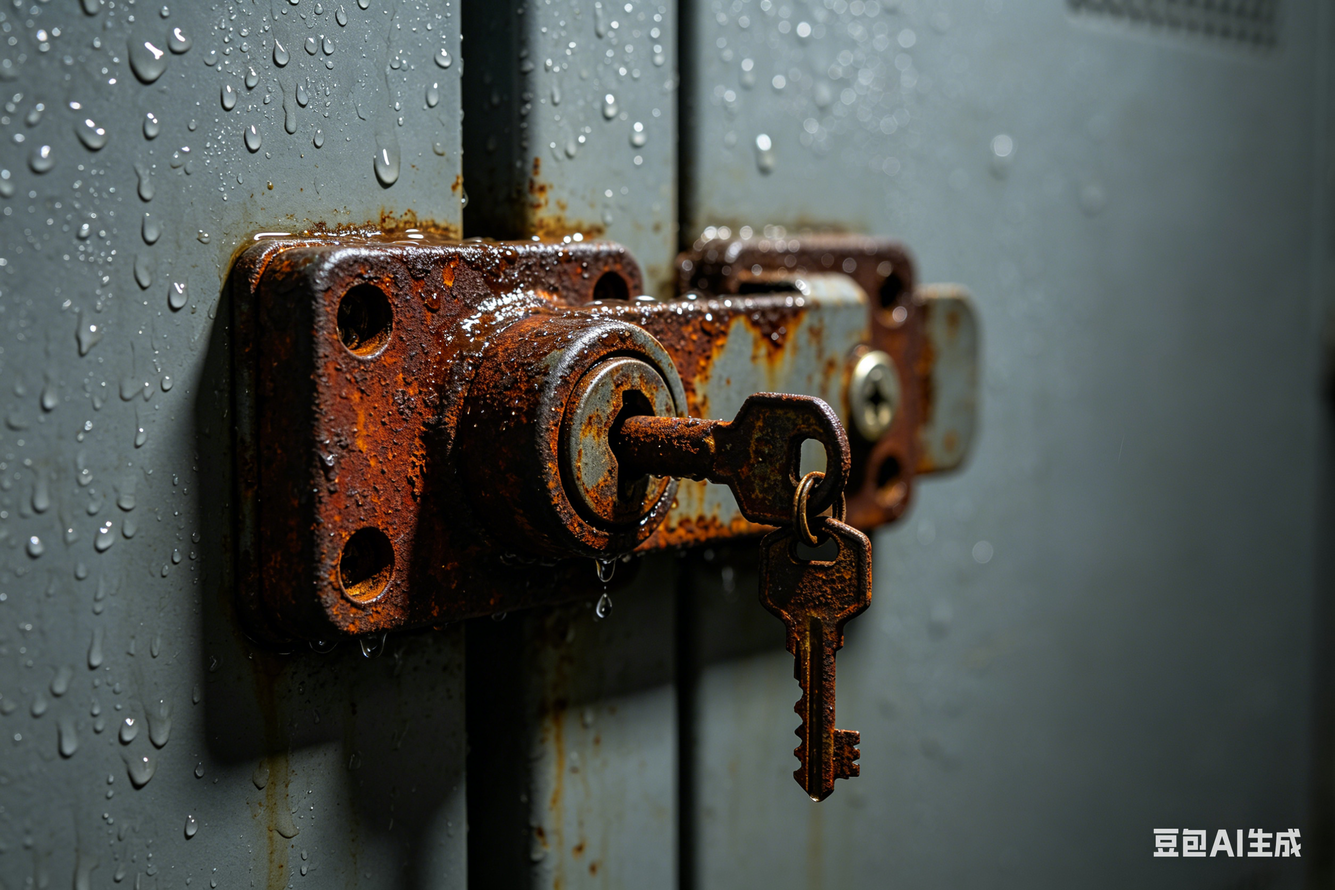BadLock: (516, 327, 705, 545)
